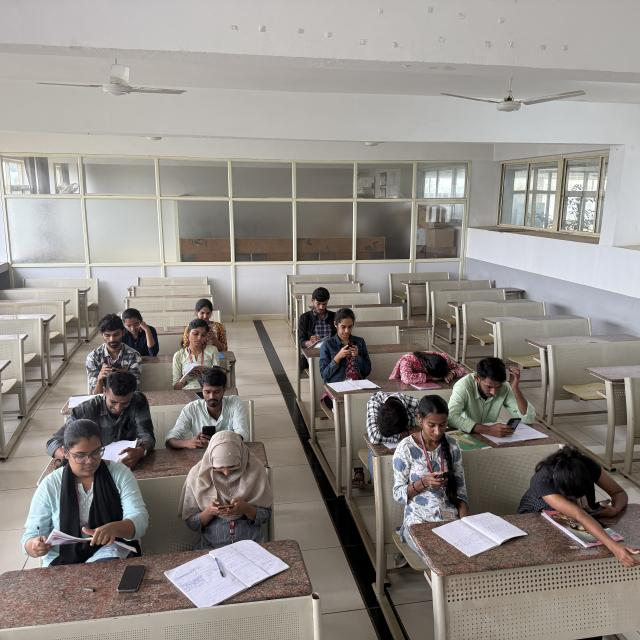Reading: (26, 422, 145, 555), (49, 374, 158, 464), (170, 319, 232, 387)
Sleeping: (389, 346, 471, 389), (366, 387, 427, 442)
Using Phone: (181, 429, 281, 537), (400, 399, 476, 515), (523, 444, 631, 523), (449, 351, 540, 434), (164, 368, 252, 449), (78, 313, 142, 388), (320, 311, 372, 378)
Writing: (296, 289, 338, 351)
